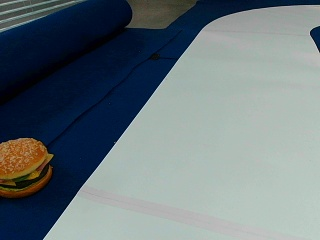burger: (0, 135, 53, 197)
